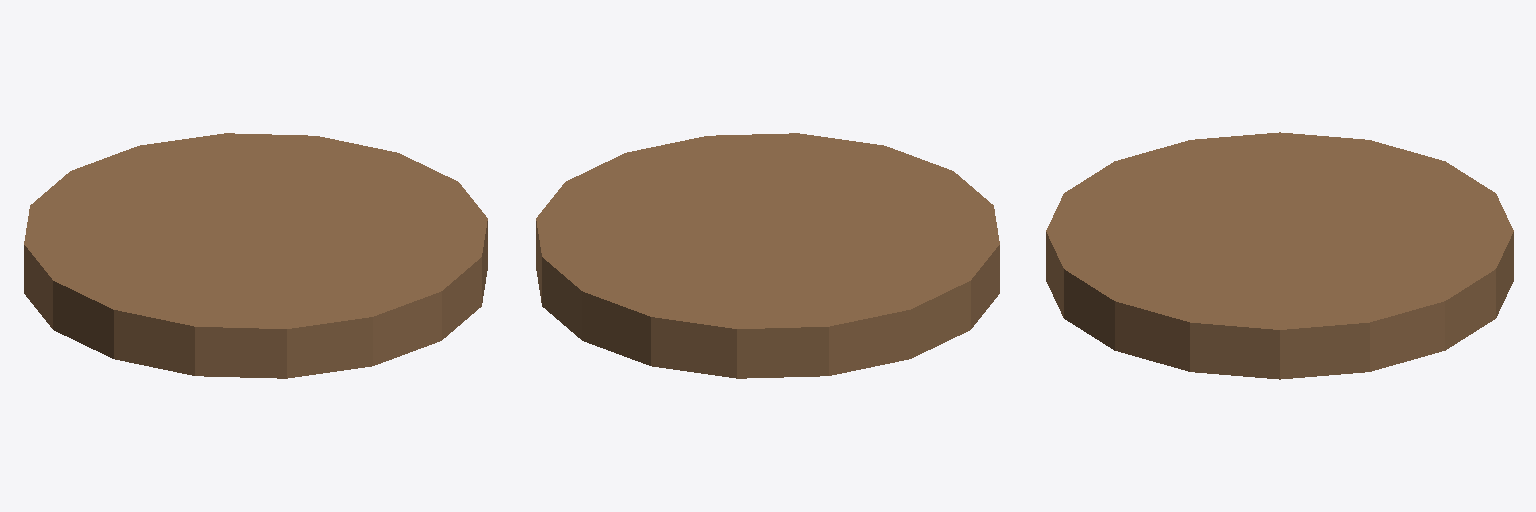
The model's file is sewage_circular.obj.
The picture shows the model from 3 angles: view 1: azimuth 30°, elevation 25°; view 2: azimuth 150°, elevation 25°; view 3: azimuth 270°, elevation 25°; orthographic projection.
Parts seen in each view (by area): view 1: __.1; view 2: __.1; view 3: __.1.
Boxes of the visible parts, box(x1,y1,x2,y2) form: __.1: box(24, 133, 487, 378); __.1: box(536, 133, 999, 378); __.1: box(1046, 132, 1513, 379).
Bounding box in the file's own units: 3548 × 414 × 3548.